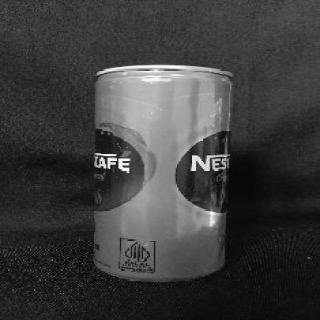alumunium_can: (93, 65, 234, 282)
